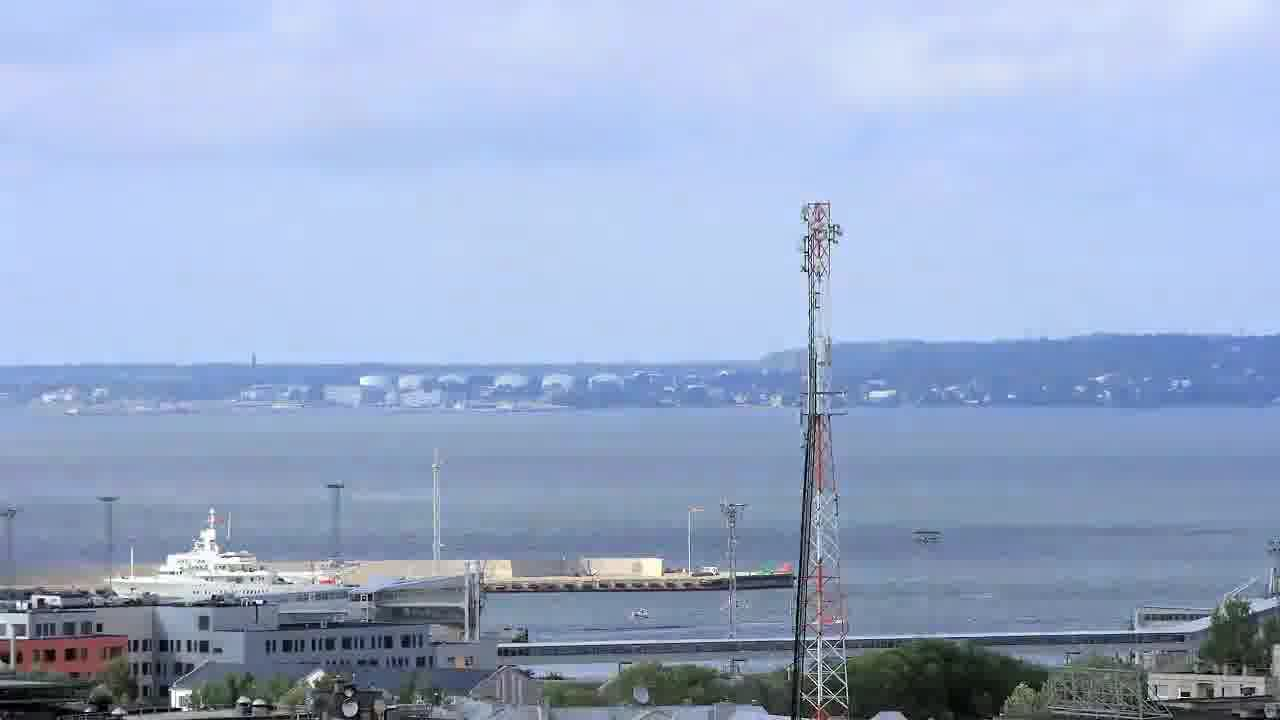type-0: (713, 573, 756, 621), (612, 597, 661, 631)
type-3: (72, 492, 370, 608)
